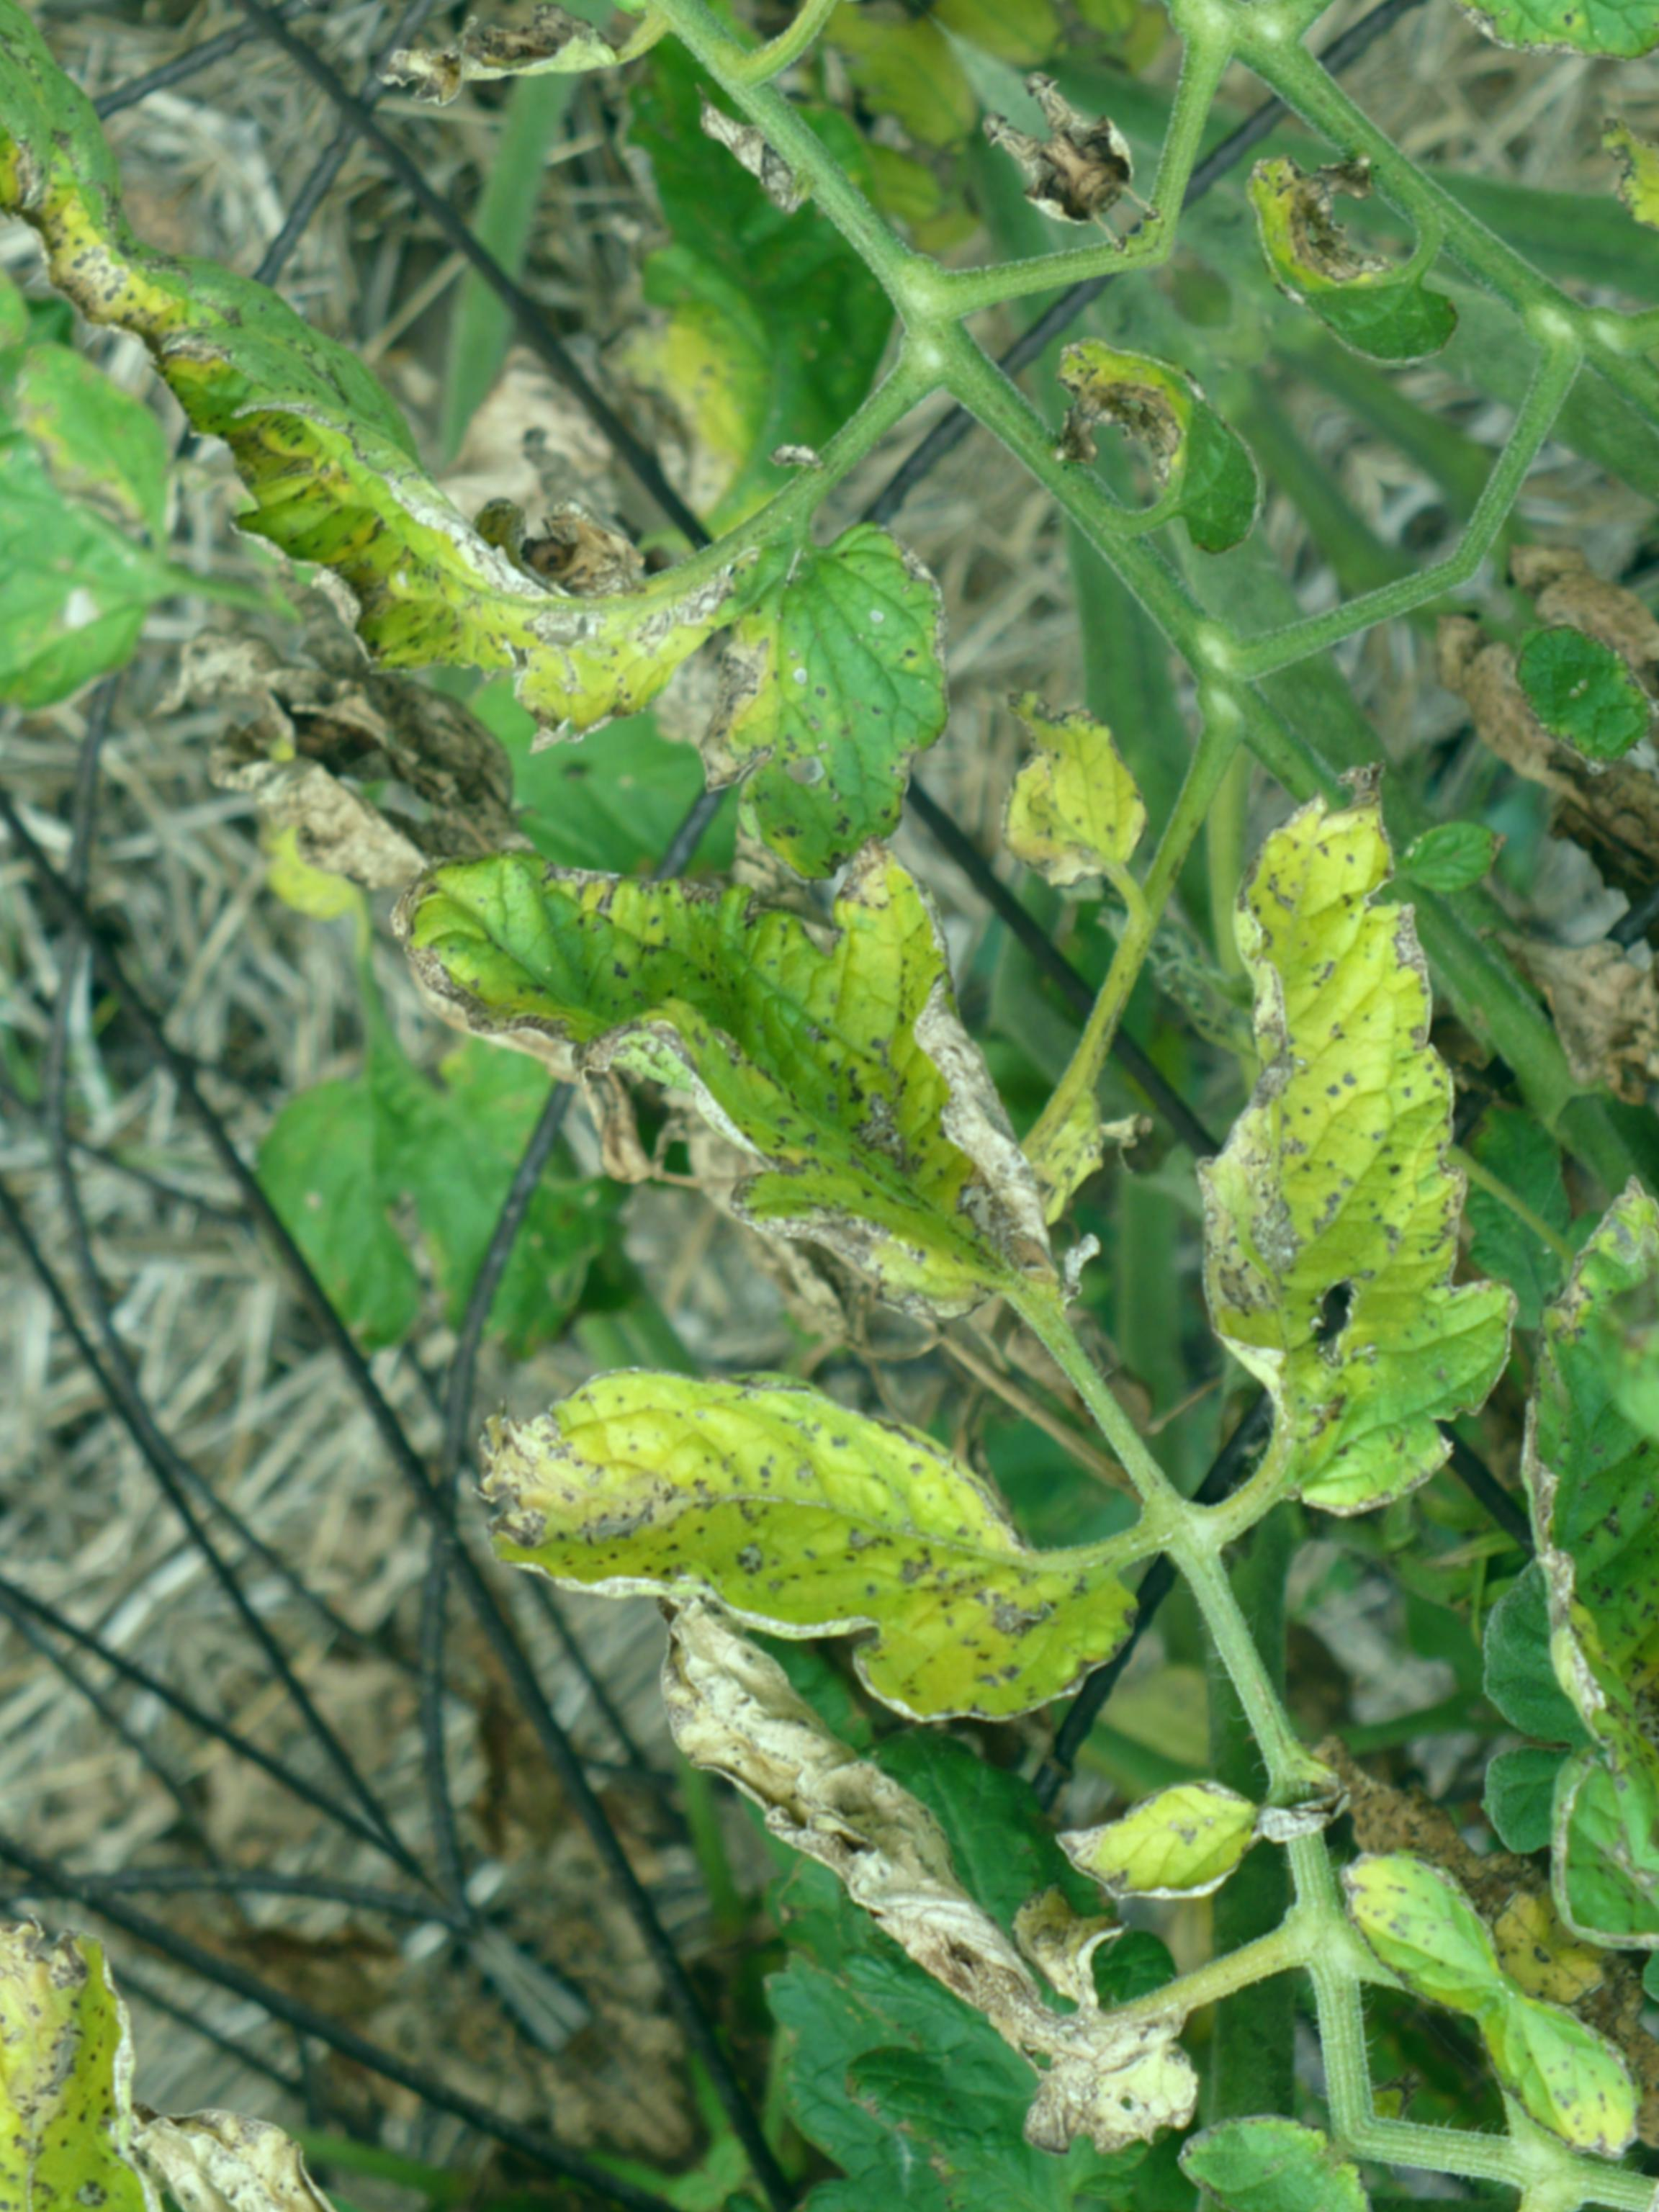Tomato Septoria leaf spot: (49, 0, 1077, 995), (894, 705, 1659, 1595), (362, 636, 1180, 1460), (469, 1162, 1195, 1893)
